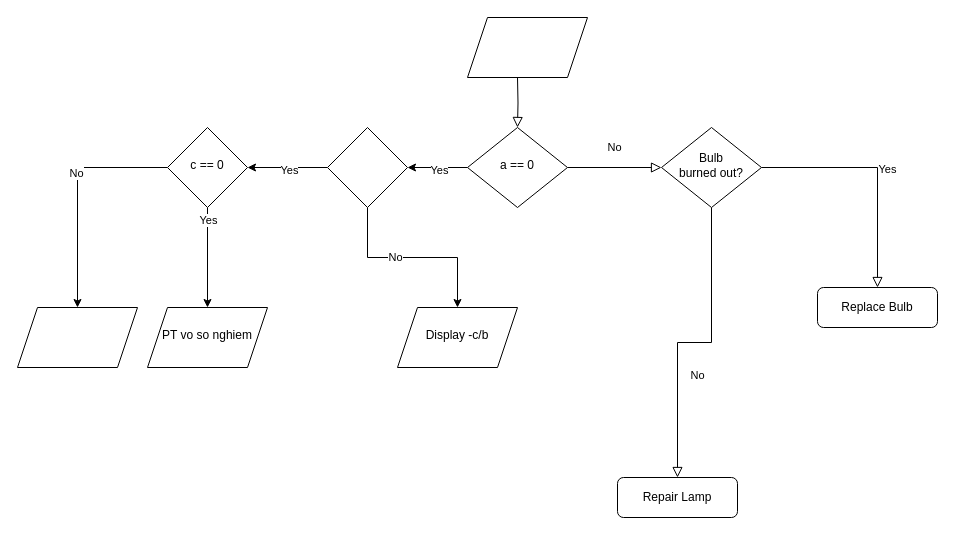
Image size: 955x535. Some labels were removed from this diagram. The centre of each missing label's shape, as x and y in pixels:
b ==0: (x=367, y=167)
Input a, b, c: (x=527, y=47)
PT vo nghiem: (x=77, y=337)
